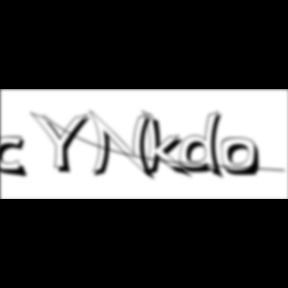N: (89, 109, 159, 183)
Y: (30, 110, 96, 176)
c: (0, 136, 32, 180)
d: (179, 110, 229, 182)
k: (142, 108, 195, 181)
o: (221, 137, 263, 179)
